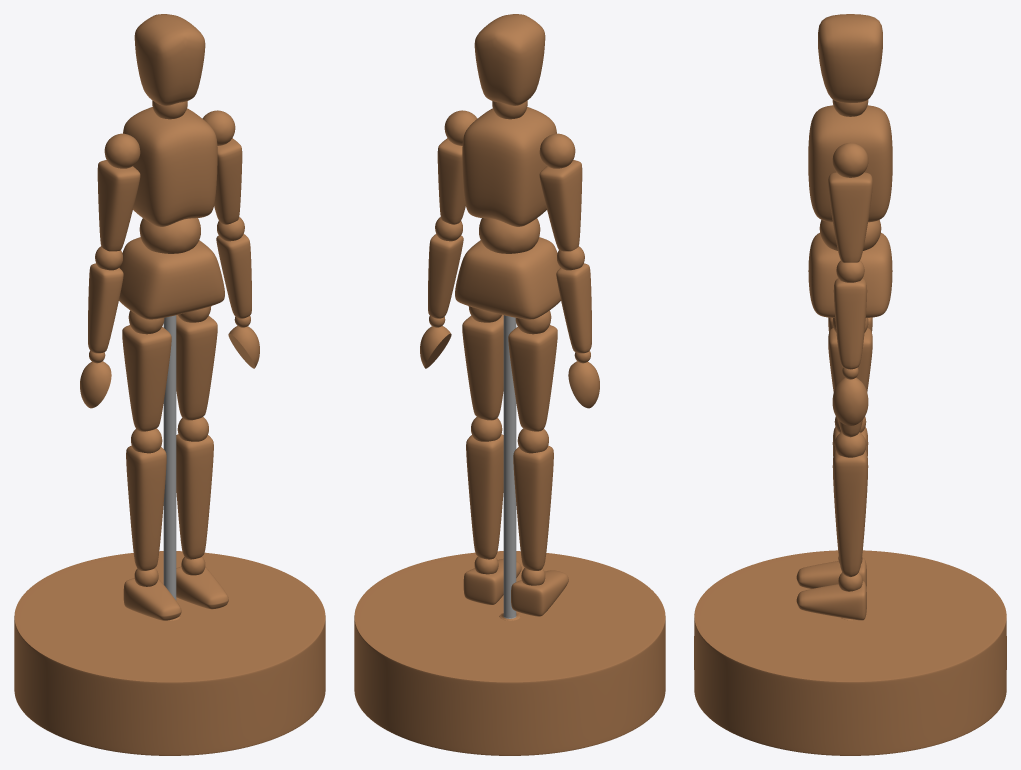
The model's file is mannequin2.glb.
The picture shows the model from 3 angles, left to right: view 1: azimuth 30°, elevation 25°; view 2: azimuth 150°, elevation 25°; view 3: azimuth 270°, elevation 25°; orthographic projection.
Parts seen in each view (by area): view 1: Icosphere.004; view 2: Icosphere.004; view 3: Icosphere.004.
Boxes of the visible parts, box(x1,y1,x2,y2) form: Icosphere.004: box(14, 14, 325, 755); Icosphere.004: box(354, 14, 665, 755); Icosphere.004: box(694, 14, 1006, 755).
Size of the model in its own units: 1.99 by 4.71 by 1.99.
